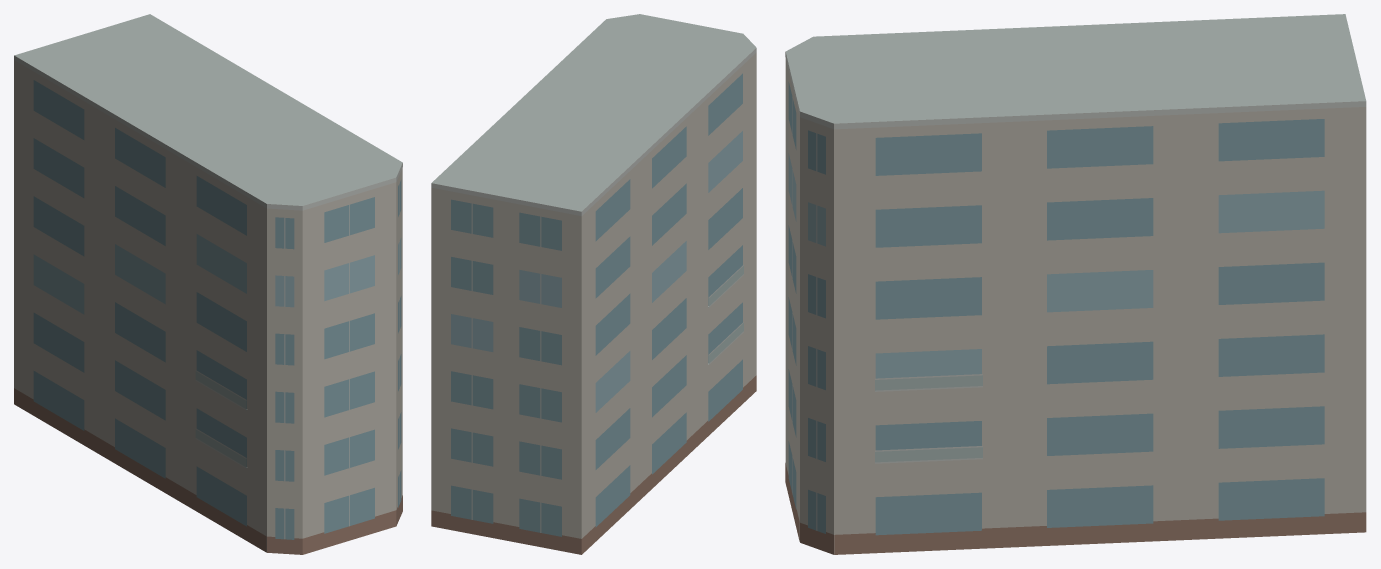
Rendered from survey-upis-32653384.glb.
The picture shows the model from 3 angles, left to right: view 1: azimuth 30°, elevation 25°; view 2: azimuth 150°, elevation 25°; view 3: azimuth 270°, elevation 25°; orthographic projection. The views are drawn at different scales.
Parts seen in each view (by area): view 1: survey-upis-32653384.tmp; view 2: survey-upis-32653384.tmp; view 3: survey-upis-32653384.tmp.
Boxes of the visible parts, left/top/right/bottom form: survey-upis-32653384.tmp: left=14, top=14, right=402, bottom=554; survey-upis-32653384.tmp: left=431, top=14, right=756, bottom=554; survey-upis-32653384.tmp: left=785, top=14, right=1366, bottom=554.
Bounding box in the file's own units: 10.05 × 18.4 × 22.47.
